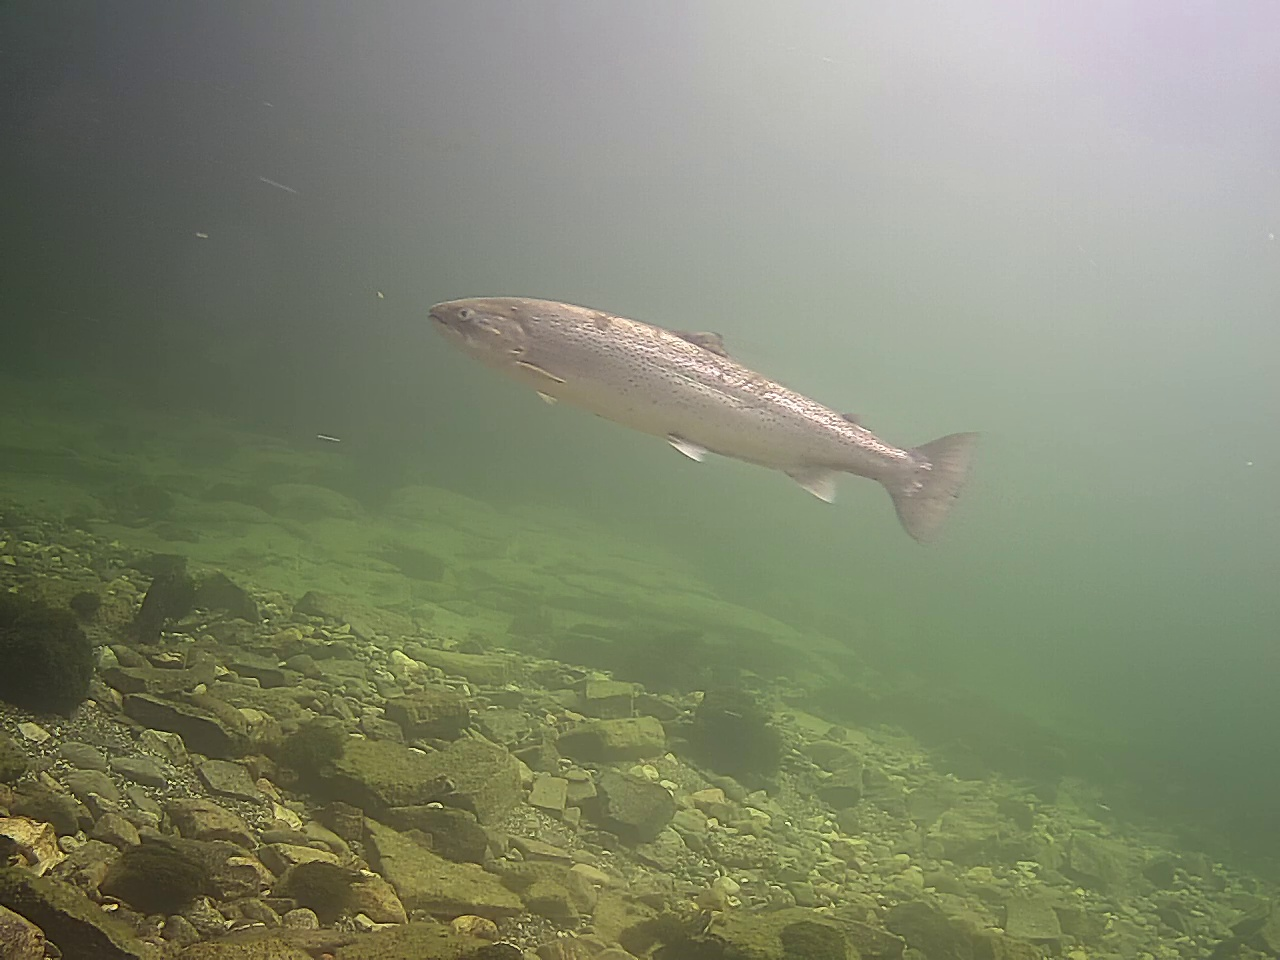salmon: (425, 293, 982, 545)
